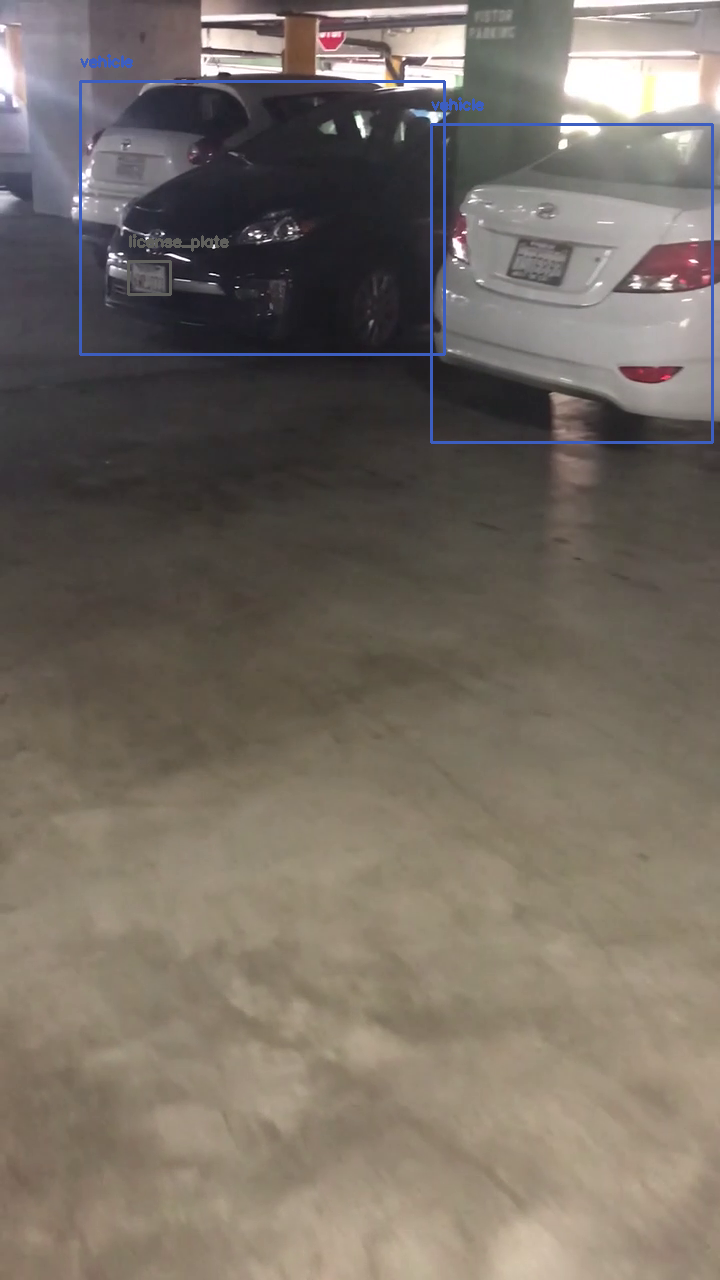license_plate: (128, 261, 170, 294)
vehicle: (80, 81, 444, 354), (431, 124, 712, 442)
